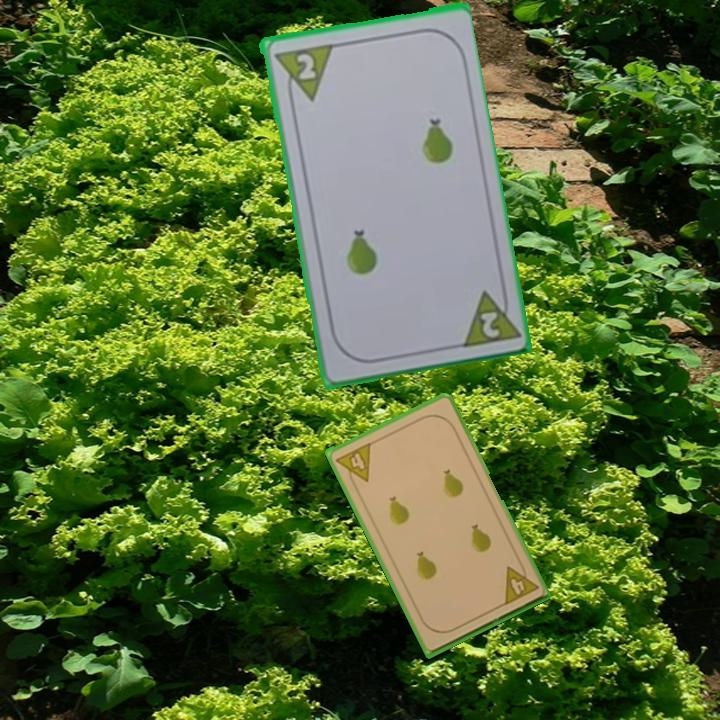2p: (456, 281, 521, 351), (292, 49, 319, 82)
4p: (332, 439, 374, 490), (500, 558, 541, 608)
